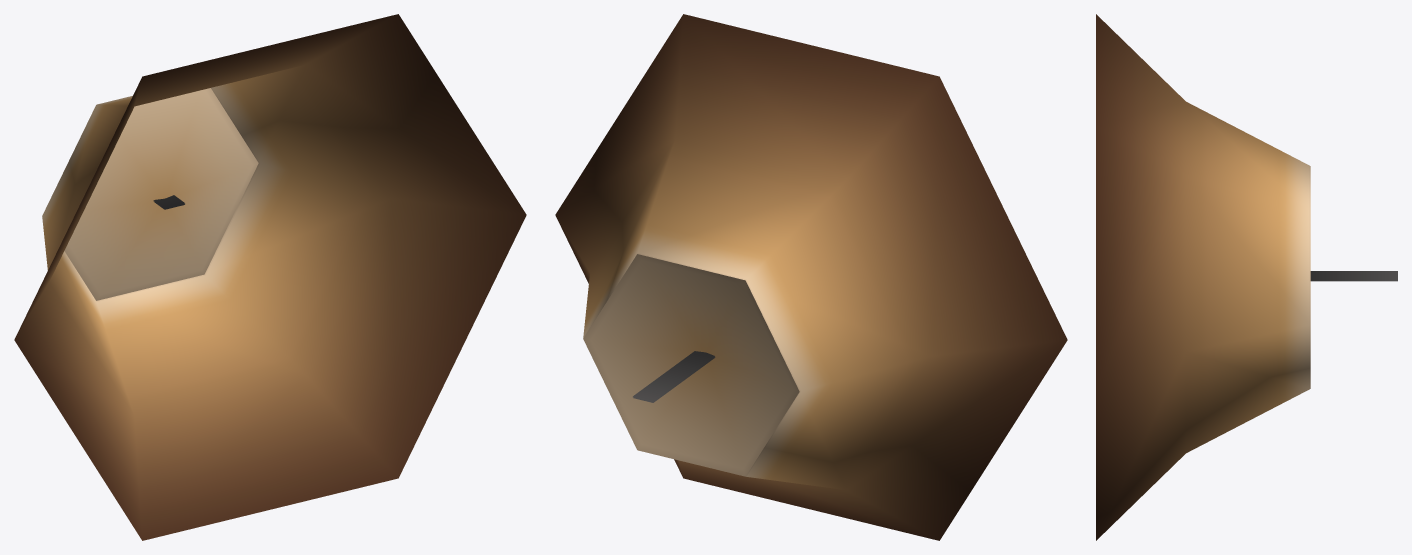
File: Candle_A.fbx
3 renders of one model, left to right at view 1: azimuth 30°, elevation 25°; view 2: azimuth 150°, elevation 25°; view 3: azimuth 270°, elevation 25°, orthographic. The views are drawn at different scales.
Parts seen in each view (by area): view 1: Candle_A; view 2: Candle_A; view 3: Candle_A.
Boxes of the visible parts, x1,y1,x2,y2 form: Candle_A: (14, 14, 526, 540); Candle_A: (555, 14, 1067, 540); Candle_A: (1096, 14, 1397, 540).
Bounding box in the file's own units: 0.3279 × 0.2839 × 0.187.
